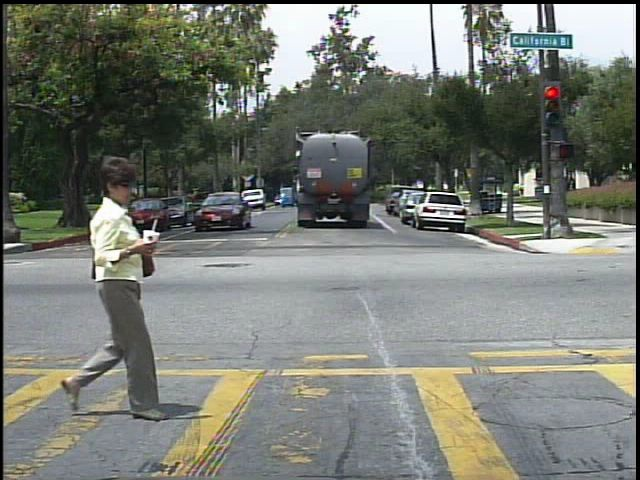person: (47, 153, 167, 425), (564, 172, 582, 204), (517, 180, 530, 200)
